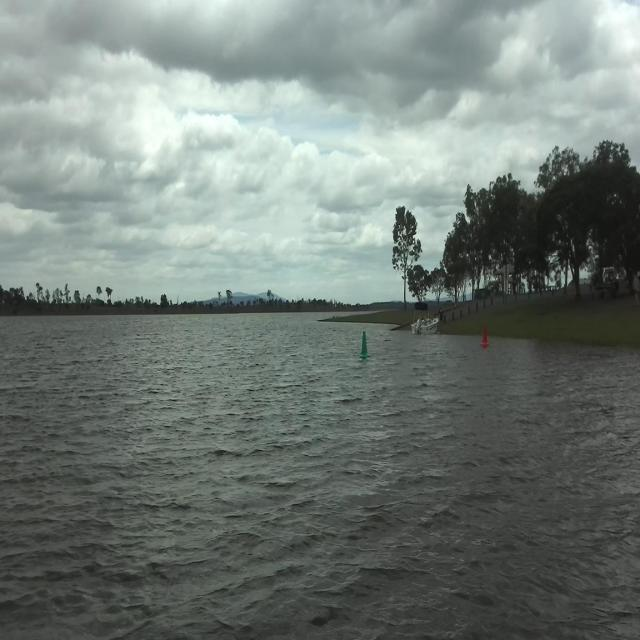Green_Buoy: (353, 332, 377, 365)
Red_Buoy: (477, 327, 500, 348)
